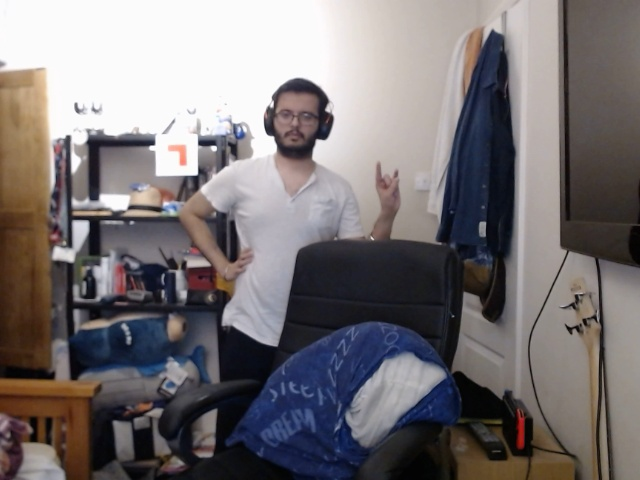Rock on: (366, 151, 410, 214)
